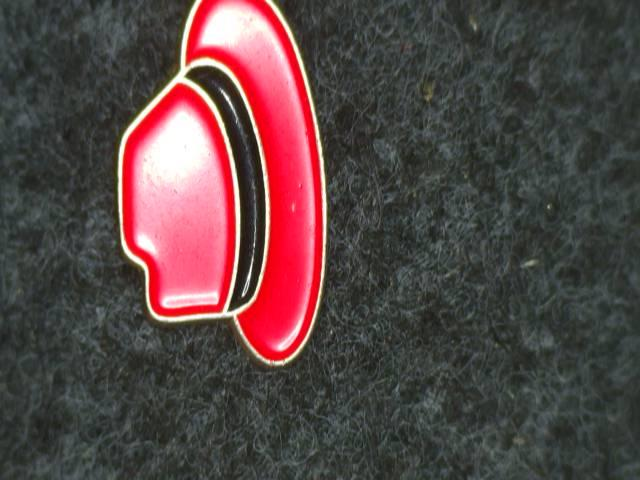Red-Hat: (56, 0, 347, 388)
